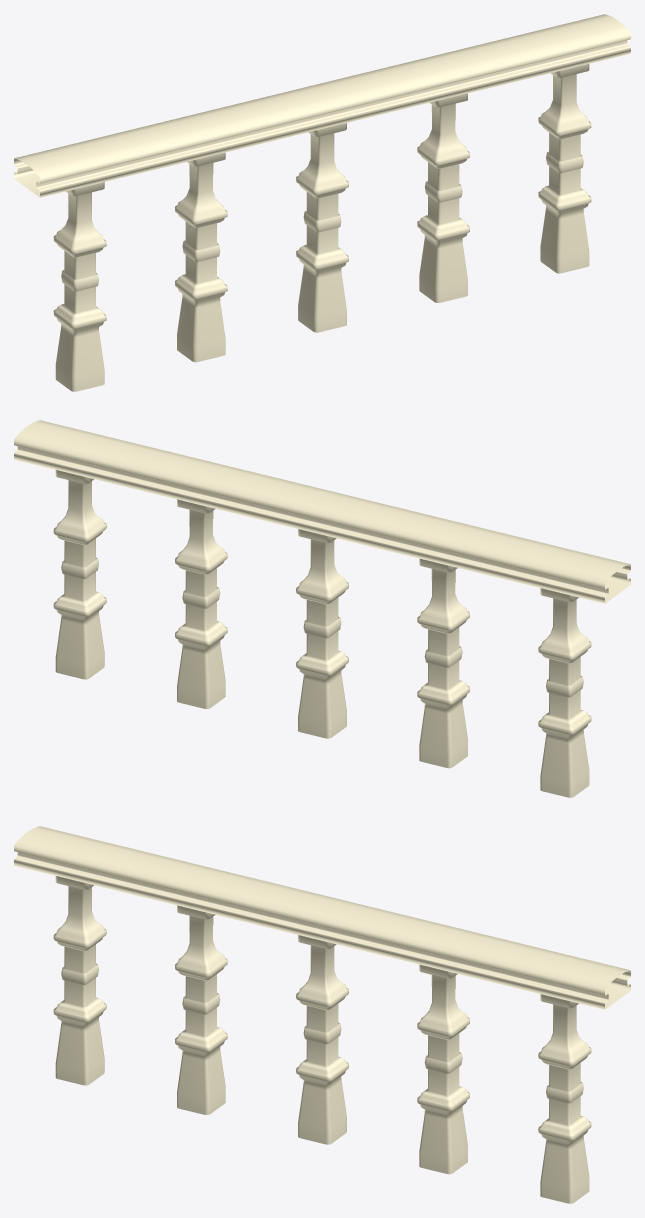
The model's file is e1190d9e-07cc-40a4-9675-e22ffcd2e566.glb.
3 renders of one model, top to bottom at view 1: azimuth 30°, elevation 25°; view 2: azimuth 150°, elevation 25°; view 3: azimuth 330°, elevation 25°, orthographic.
Parts seen in each view (by area): view 1: ArtDecoRailing; view 2: ArtDecoRailing; view 3: ArtDecoRailing.
Boxes of the visible parts, <box> form: ArtDecoRailing: <box>14,14,630,391</box>; ArtDecoRailing: <box>14,420,630,797</box>; ArtDecoRailing: <box>14,826,630,1203</box>.
Size of what is drawn, in the model's own units: 2.85 by 1.06 by 0.2175.
1 material, 1 textured.
